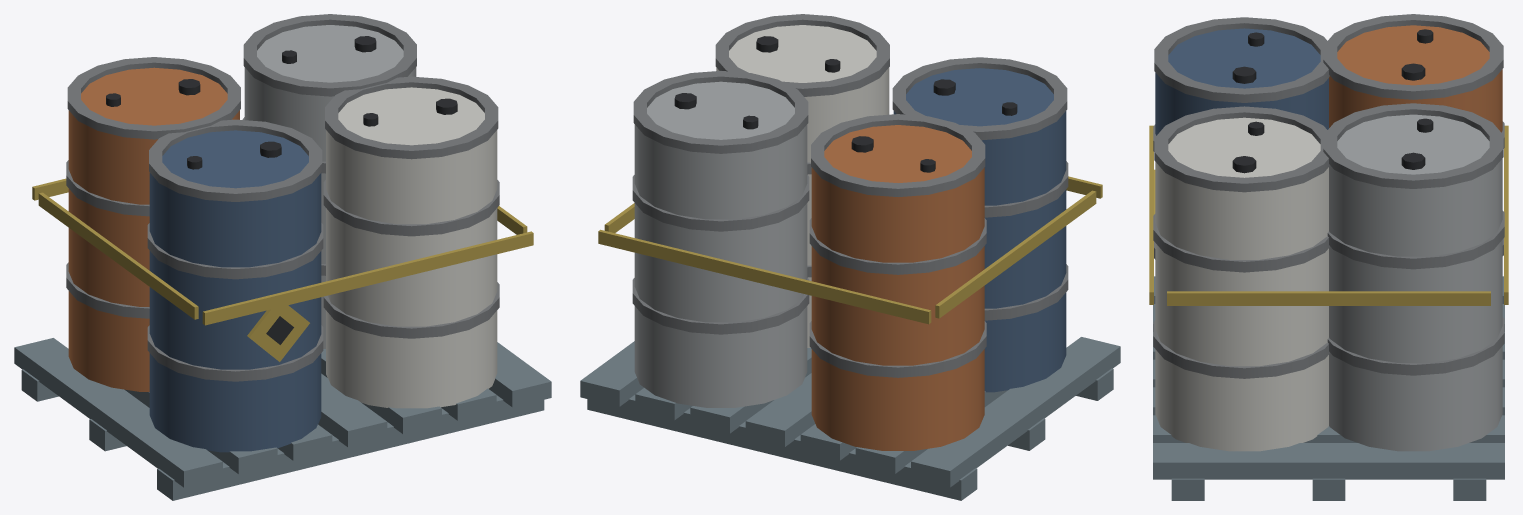
File: astro_canister_cluster.fbx
The picture shows the model from 3 angles, left to right: view 1: azimuth 30°, elevation 25°; view 2: azimuth 150°, elevation 25°; view 3: azimuth 270°, elevation 25°; orthographic projection. The views are drawn at different scales.
Parts seen in each view (by area): view 1: CanisterCluster_Body; view 2: CanisterCluster_Body; view 3: CanisterCluster_Body.
Part boxes in pixels (bbox=[...]): CanisterCluster_Body: bbox=[14, 14, 551, 500]; CanisterCluster_Body: bbox=[580, 14, 1120, 500]; CanisterCluster_Body: bbox=[1149, 14, 1508, 500].
Size of the model in its own units: 190 by 147 by 153.
